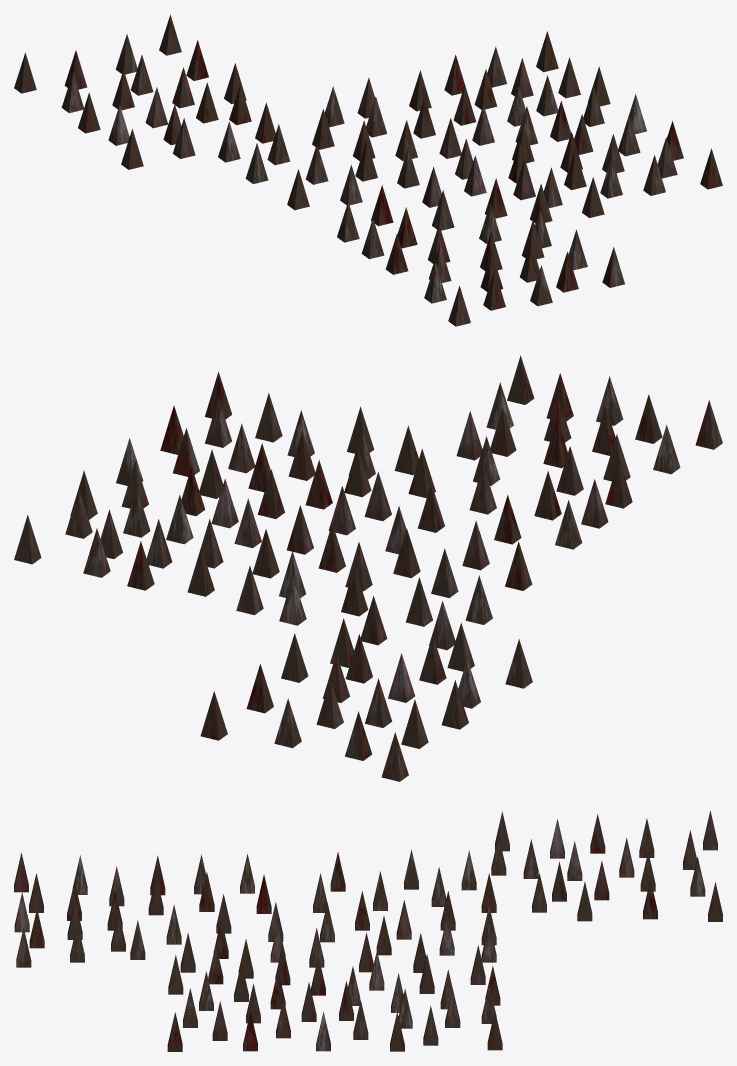
File: PinchosFoso.obj
The picture shows the model from 3 angles, top to bottom: view 1: azimuth 30°, elevation 25°; view 2: azimuth 150°, elevation 25°; view 3: azimuth 270°, elevation 25°; orthographic projection. The views are drawn at different scales.
Parts seen in each view (by area): view 1: Pyramid003, Pyramid093, Pyramid038, Pyramid002, Pyramid069, Pyramid056, Pyramid052, Pyramid051, Pyramid046, Pyramid035, Pyramid031, Pyramid103 (+36 smaller); view 2: Pyramid109, Pyramid078, Pyramid016, Pyramid061, Pyramid100, Pyramid085, Pyramid074, Pyramid034, Pyramid106, Pyramid006, Pyramid070, Pyramid059 (+56 smaller); view 3: Pyramid056.
Boxes of the visible parts, x1,y1,x2,y2 form: Pyramid003: [530, 265, 552, 306]; Pyramid093: [618, 115, 640, 156]; Pyramid038: [397, 147, 419, 188]; Pyramid002: [483, 270, 505, 310]; Pyramid069: [14, 52, 36, 93]; Pyramid056: [218, 121, 240, 162]; Pyramid052: [361, 218, 384, 259]; Pyramid051: [267, 124, 290, 165]; Pyramid046: [245, 143, 268, 183]; Pyramid035: [464, 155, 486, 196]; Pyramid031: [337, 201, 359, 242]; Pyramid103: [413, 98, 435, 138]; Pyramid109: [83, 528, 110, 577]; Pyramid078: [200, 691, 227, 740]; Pyramid016: [605, 459, 632, 508]; Pyramid061: [505, 639, 532, 688]; Pyramid100: [166, 494, 193, 544]; Pyramid085: [228, 423, 255, 473]; Pyramid074: [274, 698, 301, 748]; Pyramid034: [344, 447, 371, 497]; Pyramid106: [65, 489, 92, 538]; Pyramid006: [653, 425, 680, 474]; Pyramid070: [345, 711, 372, 760]; Pyramid059: [279, 576, 306, 625]; Pyramid056: [461, 850, 476, 890].
Size of the model in its own units: 43.17 by 3.53 by 61.92.
Materials: 1 (1 with a texture image).
